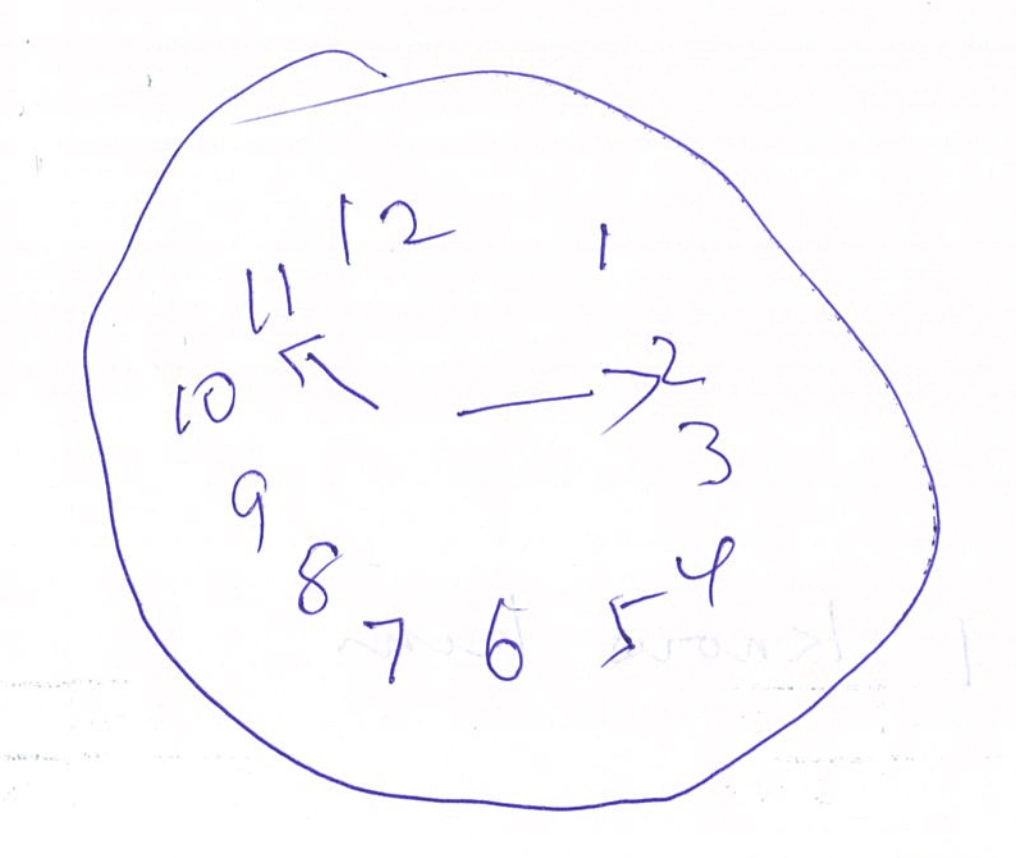1: (590, 220, 627, 281)
10: (166, 370, 240, 437)
11: (241, 257, 294, 334)
12: (330, 185, 458, 267)
2: (648, 334, 710, 389)
3: (677, 415, 736, 495)
4: (672, 533, 738, 614)
5: (595, 582, 669, 673)
6: (479, 593, 530, 686)
7: (363, 612, 408, 688)
8: (294, 537, 344, 617)
9: (225, 463, 270, 556)
contour: (76, 43, 945, 815)
hand: (278, 336, 661, 437)
top_left_arrow: (274, 334, 383, 409)
top_right_arrow: (457, 367, 662, 430)
